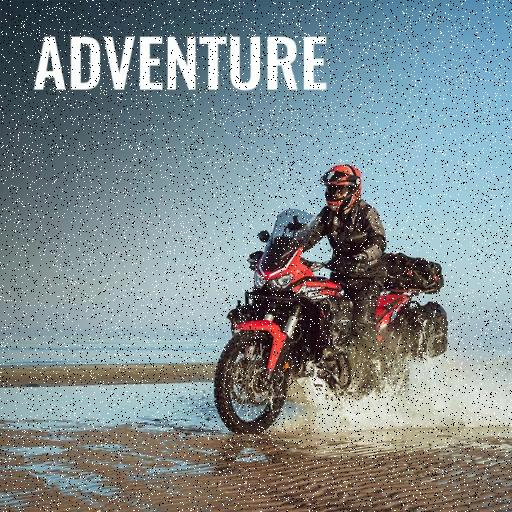Helmet: (320, 164, 361, 212)
Motor: (213, 200, 458, 449)
